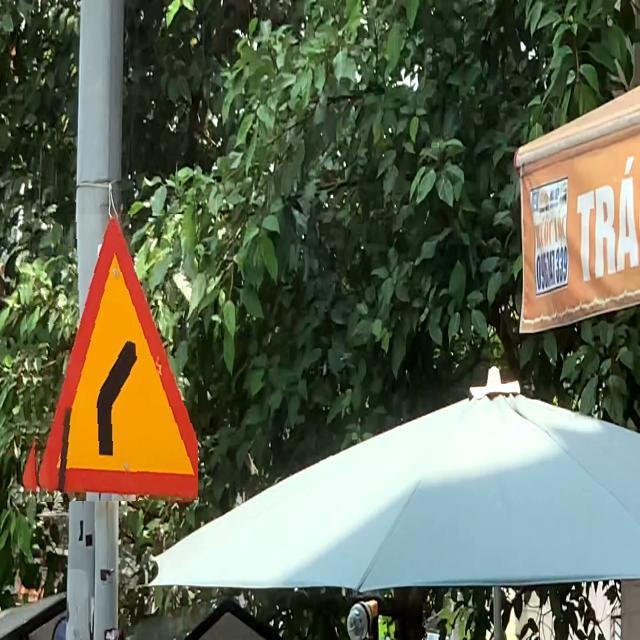W-201b: (20, 215, 198, 503)
